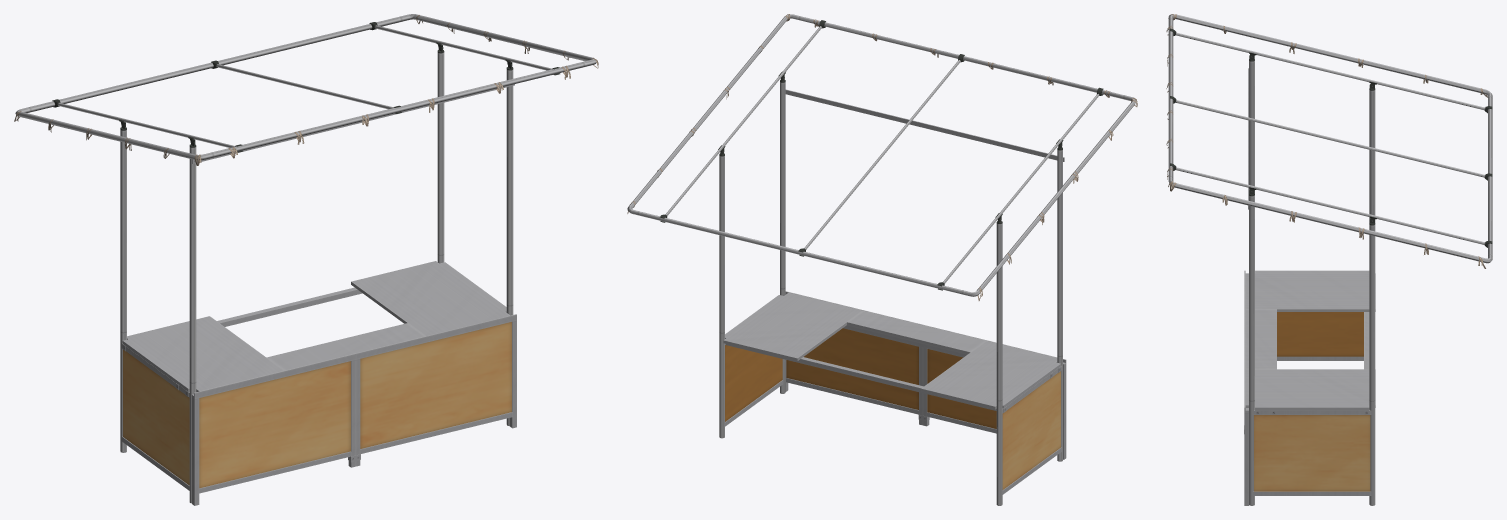
Rendered from jsf_4P_s02_c05_t02.fbx.
3 views of the same model, side by side, from view 1: azimuth 30°, elevation 25°; view 2: azimuth 150°, elevation 25°; view 3: azimuth 270°, elevation 25° (orthographic). The views are drawn at different scales.
Parts seen in each view (by area): view 1: Base_s02_c05, Pillar4_s02, Table_4P_s02_t02, Rope_4P_s02; view 2: Base_s02_c05, Pillar4_s02, Table_4P_s02_t02, Rope_4P_s02; view 3: Base_s02_c05, Pillar4_s02, Table_4P_s02_t02, Rope_4P_s02.
Boxes of the visible parts, x1,y1,x2,y2 form: Base_s02_c05: (121,314,516,505); Pillar4_s02: (15,14,596,503); Table_4P_s02_t02: (122,261,509,396); Rope_4P_s02: (14,15,598,165); Base_s02_c05: (725,291,1066,494); Pillar4_s02: (627,14,1136,505); Table_4P_s02_t02: (723,292,1061,412); Rope_4P_s02: (627,14,1137,300); Base_s02_c05: (1244,270,1371,505); Pillar4_s02: (1168,14,1492,505); Table_4P_s02_t02: (1245,270,1375,414); Rope_4P_s02: (1166,14,1487,268).
Size of the model in its own units: 264 by 243 by 211.
